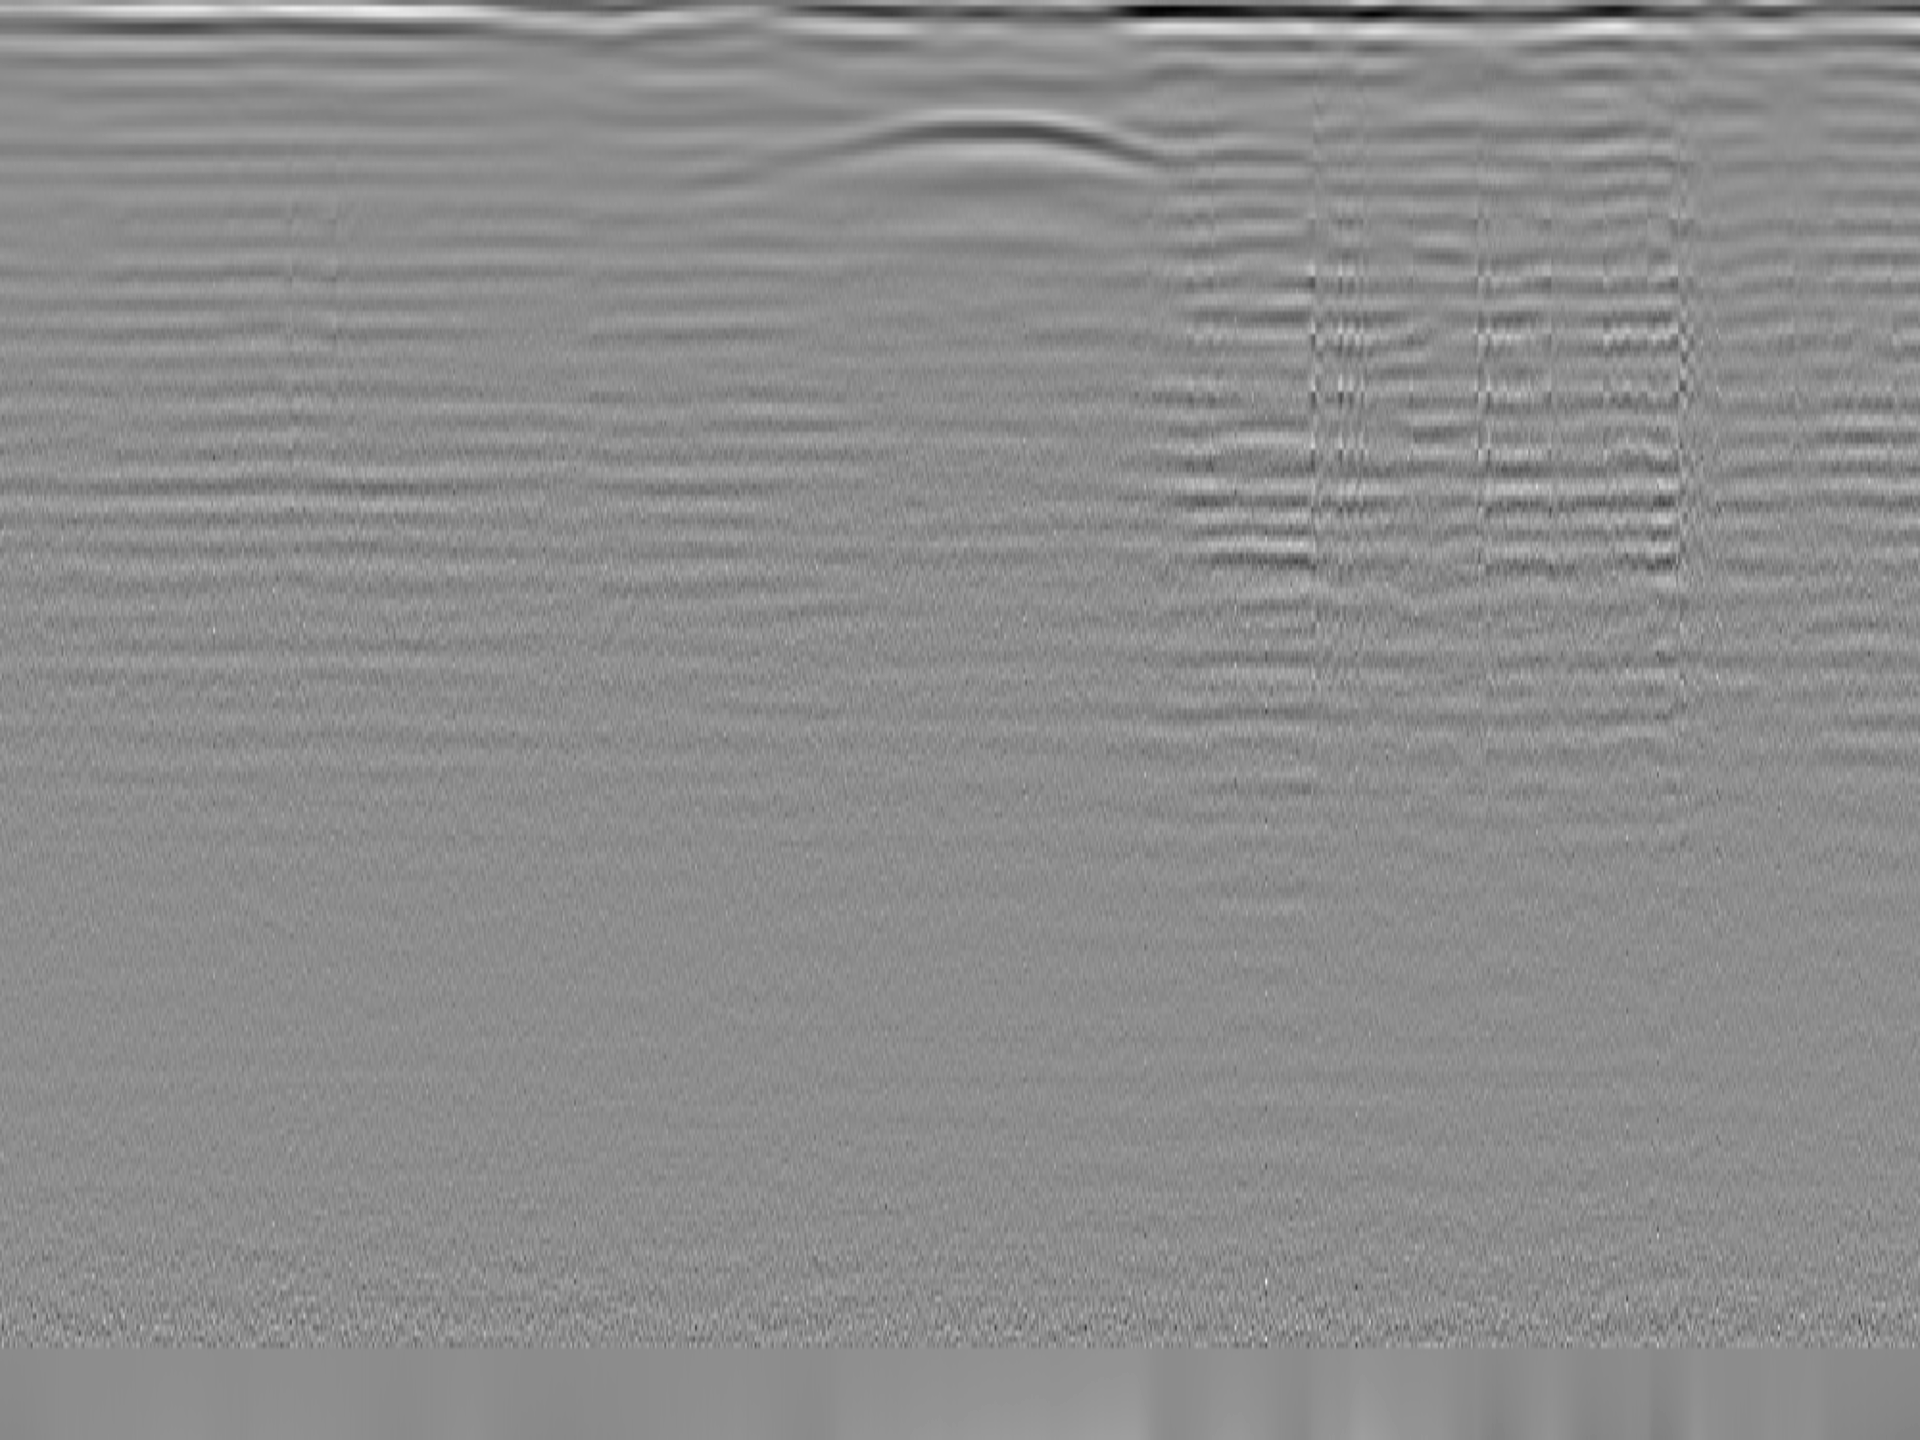Tunnel: (727, 109, 1205, 191)
